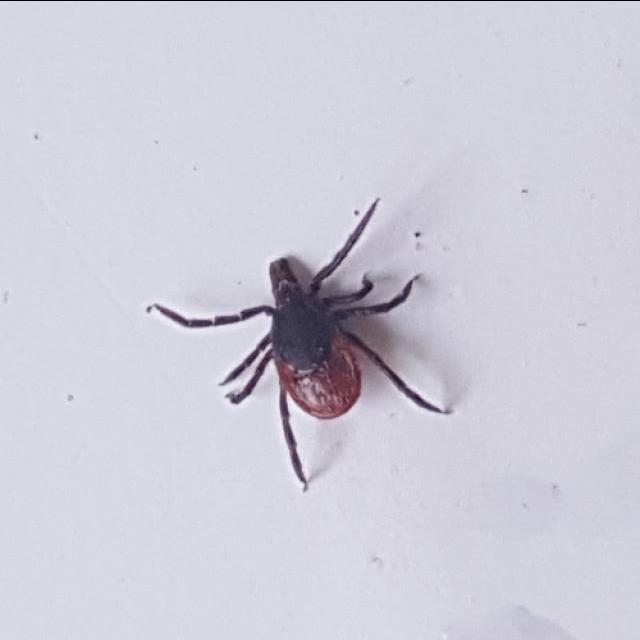Ixodes Ricinus-F: (147, 201, 453, 492)
